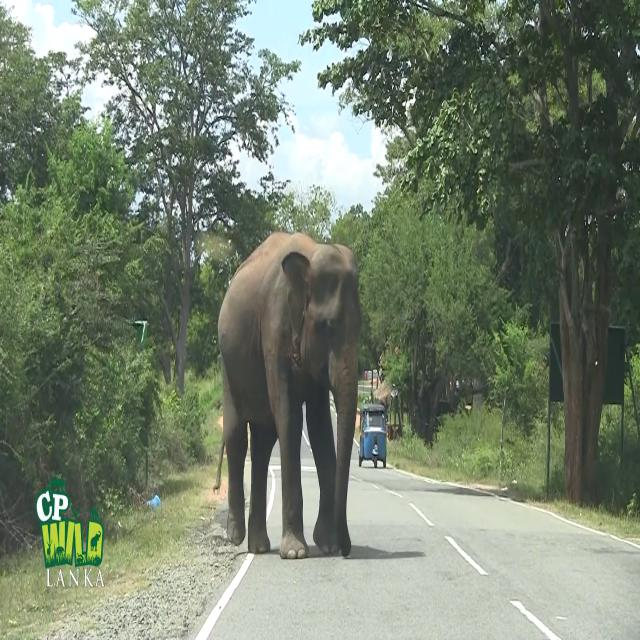Elephant: (216, 230, 362, 559)
